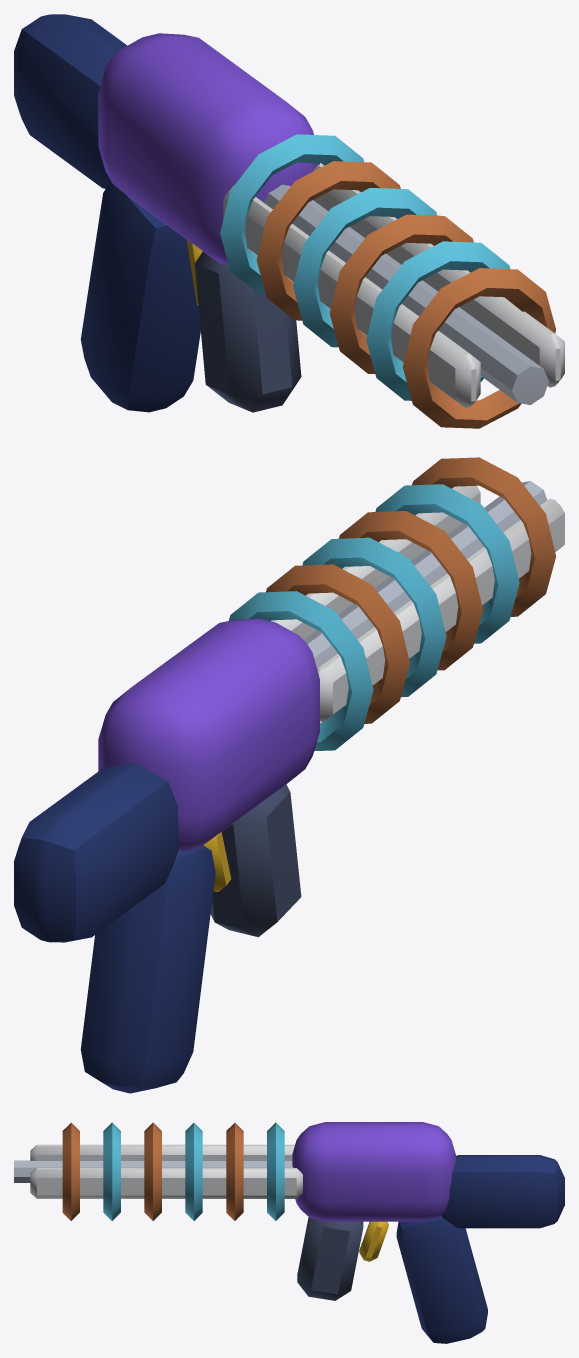
File: w_a_railgun.glb
3 views of the same model, one above another, from view 1: azimuth 30°, elevation 25°; view 2: azimuth 150°, elevation 25°; view 3: azimuth 270°, elevation 25° (orthographic). The views are drawn at different scales.
Visible parts, largest first — view 1: body; view 2: body; view 3: body.
Part boxes in pixels (x1,y1,x2,y2): body: (14,14,564,428); body: (14,457,564,1093); body: (14,1122,564,1343).
Bounding box in the file's own units: 0.2184 × 0.5189 × 1.21.
